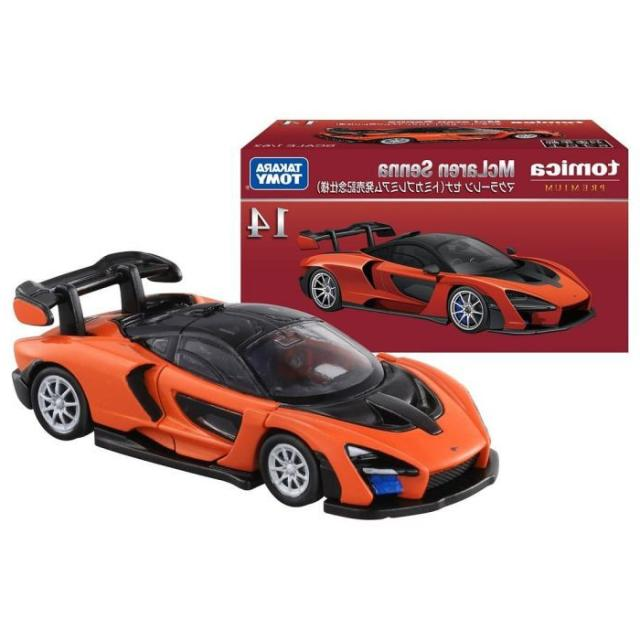Car: (11, 250, 499, 519), (297, 220, 593, 334)
